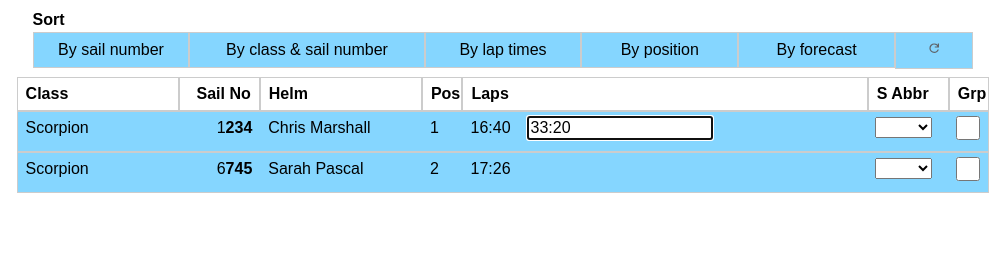
Scenario: when updating a lap time › displays a message if there is a problem updating the lap time
Replace the text in the field with "00:15". click: (620, 128)
box: [527,116,713,140]
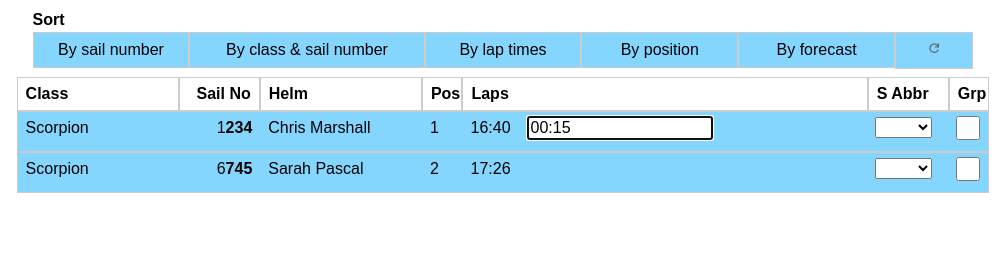
Press Enter
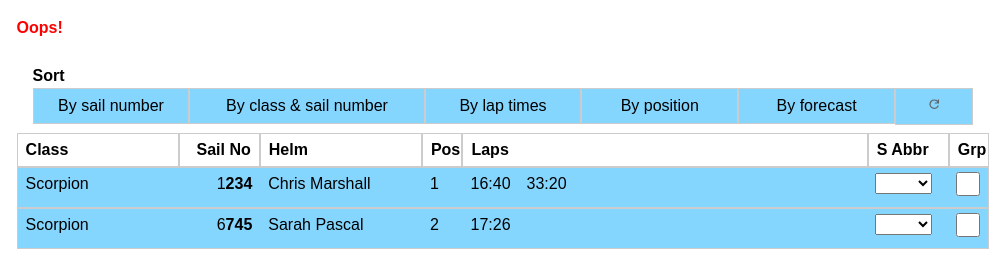
Check: the text "Oops!" is shown, box [17,19,63,36]
